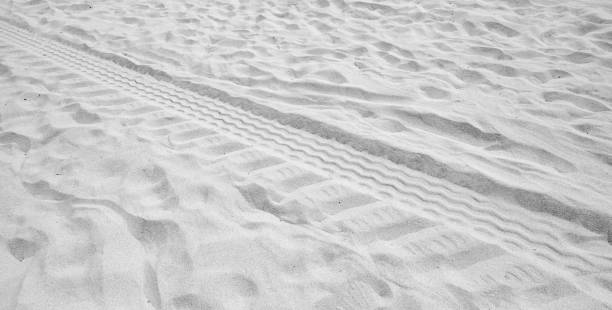vehicle_track: (0, 22, 611, 298)
